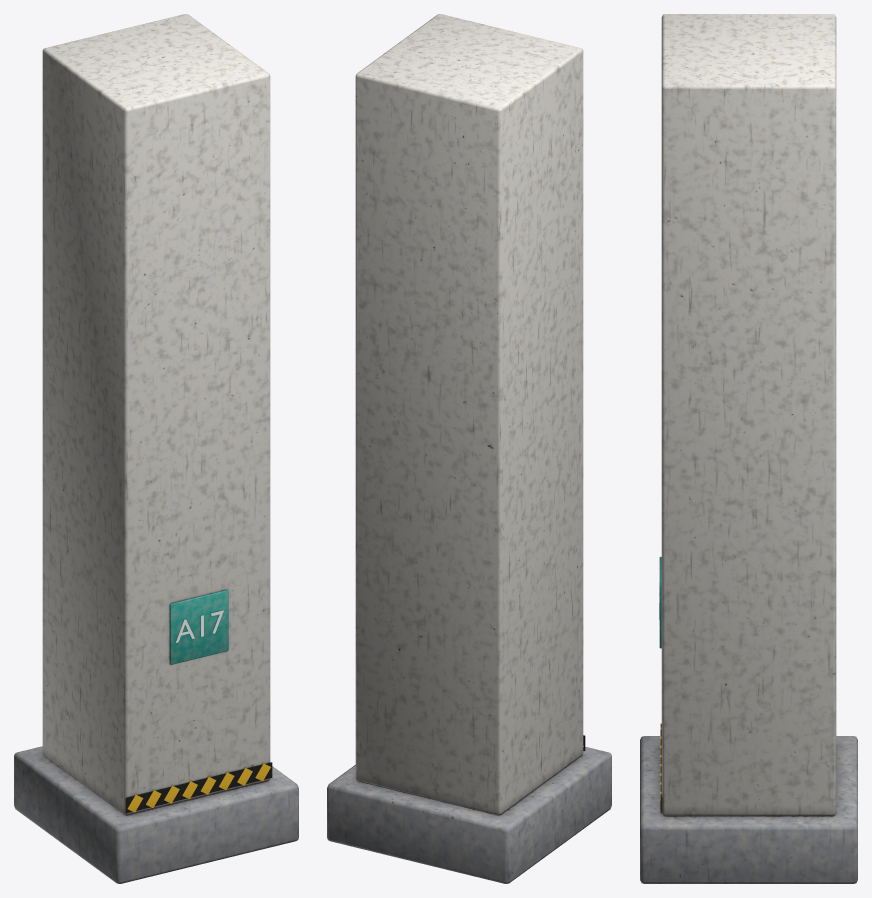
Rendered from pillar_base.fbx.
3 views of the same model, side by side, from view 1: azimuth 30°, elevation 25°; view 2: azimuth 150°, elevation 25°; view 3: azimuth 270°, elevation 25° (orthographic). The views are drawn at different scales.
Visible parts, largest first — view 1: Body; view 2: Body; view 3: Body.
Boxes of the visible parts, bbox=[...] form: Body: bbox=[14, 14, 298, 883]; Body: bbox=[327, 14, 611, 883]; Body: bbox=[640, 14, 857, 883].
Size of the model in its own units: 10 by 40 by 10.
Materials: 1 (1 with a texture image).
